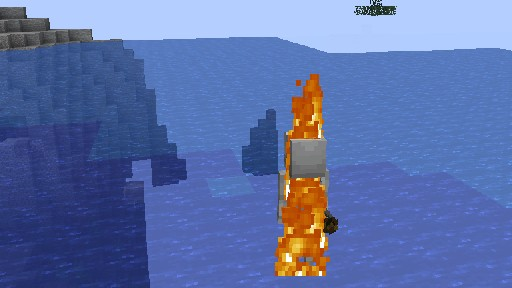skeleton: (276, 129, 338, 270)
